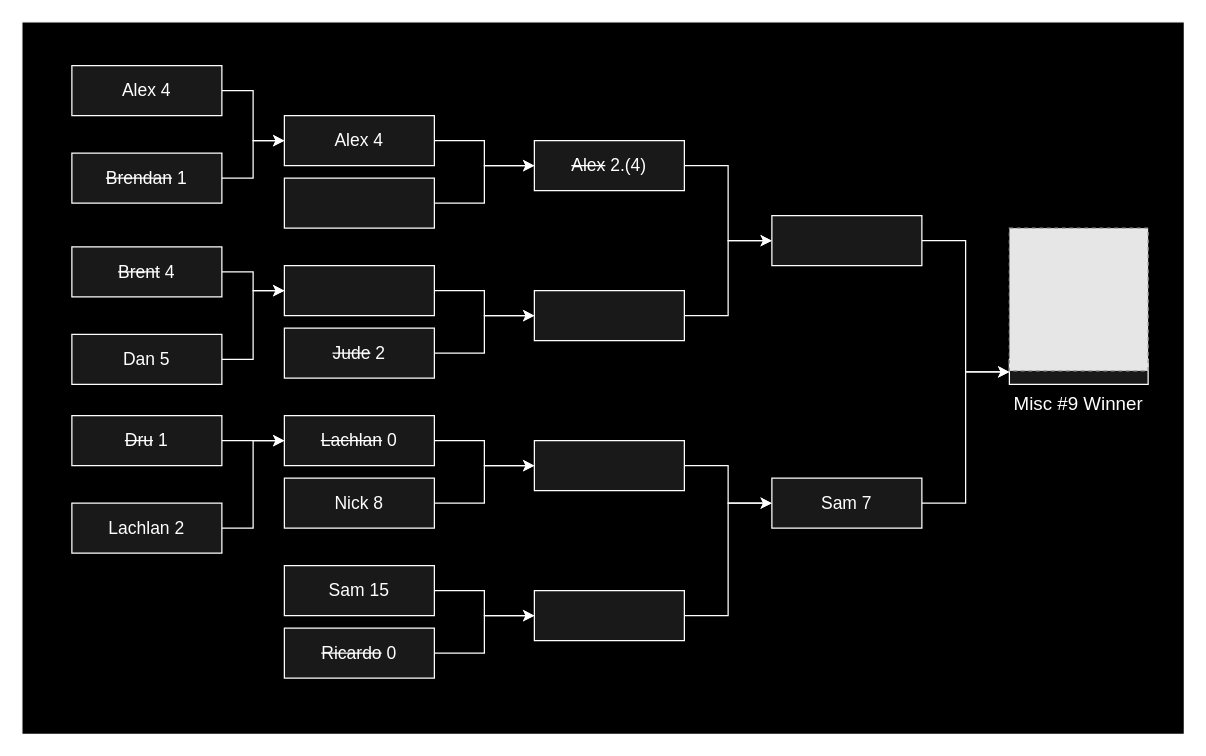
Image size: 1206x756. Some labels were removed from this diagram. Grey dashed boxes stand in for pictures. The box of each missing label's shape, as (x1, y1, x2, y2) in pixels:
Dan 2: (771, 214, 922, 266)
Dan 2 (5): (533, 289, 684, 341)
Dan 4: (283, 264, 434, 316)
Matthew 0: (283, 177, 434, 228)
Nick 0: (533, 439, 684, 491)
Sam: (1008, 358, 1148, 384)
Sam 8: (533, 589, 684, 641)
